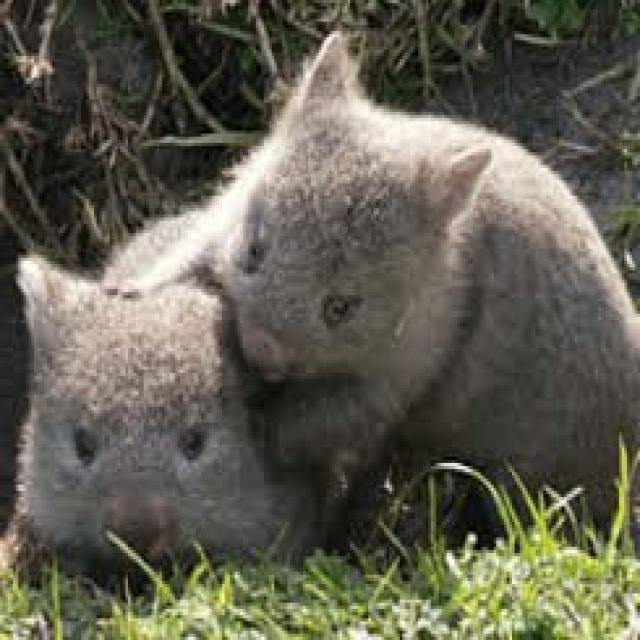wombats: (3, 31, 640, 572)
